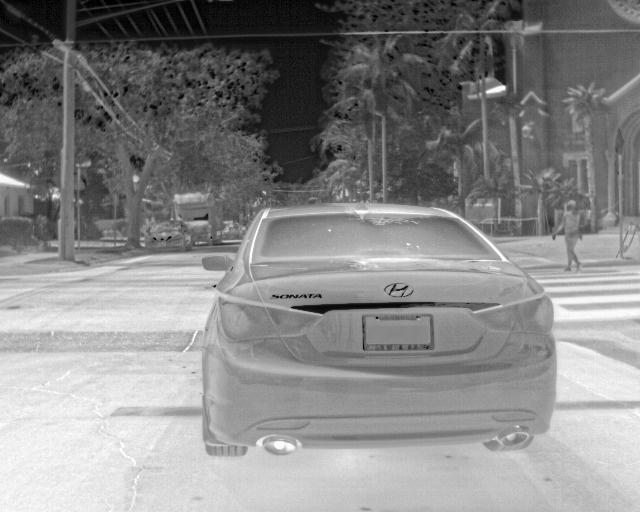bicycle: (197, 204, 556, 459), (144, 219, 190, 255), (221, 220, 239, 239)
empty: (552, 200, 583, 272)
